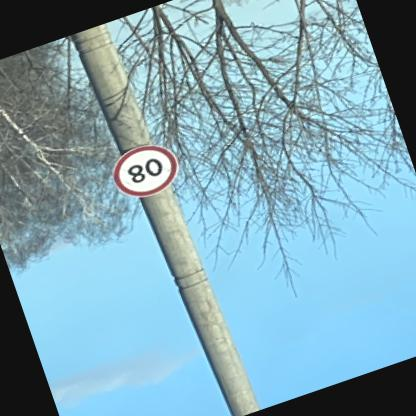speedlimit: (106, 139, 182, 206)
